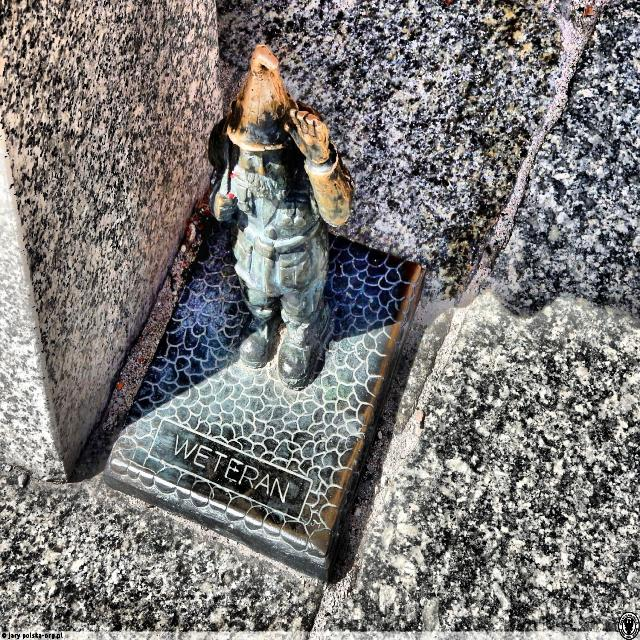Weteran: (209, 45, 352, 388)
